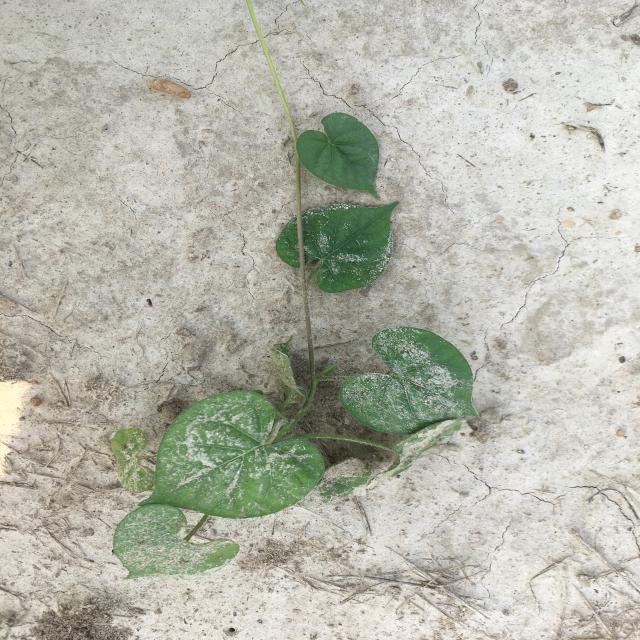MorningGlory: (111, 1, 483, 581)
